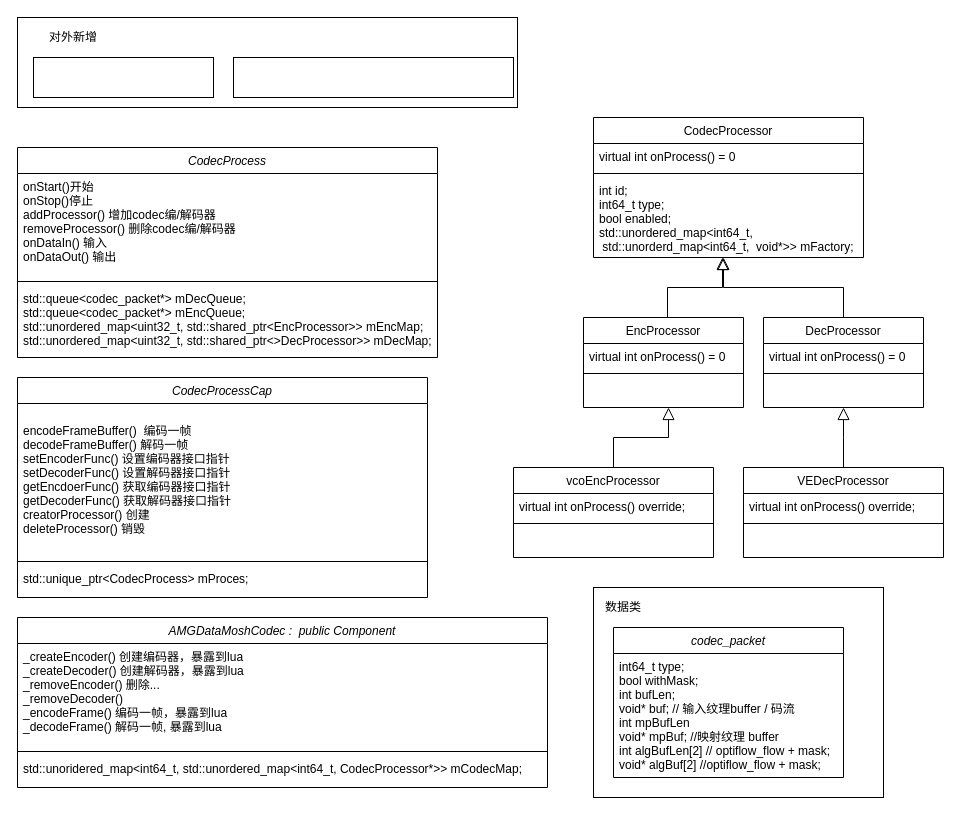
Image size: 961x815. Some labels were removed from this diagram. Each missing label, with the centre of its shape:
新增外部调用接口: bef_effect_delete_last_frame(bool isSet, int type): [373,77]
新增外部调用接口文件: bef_effect_codec_api.h: [123,77]
